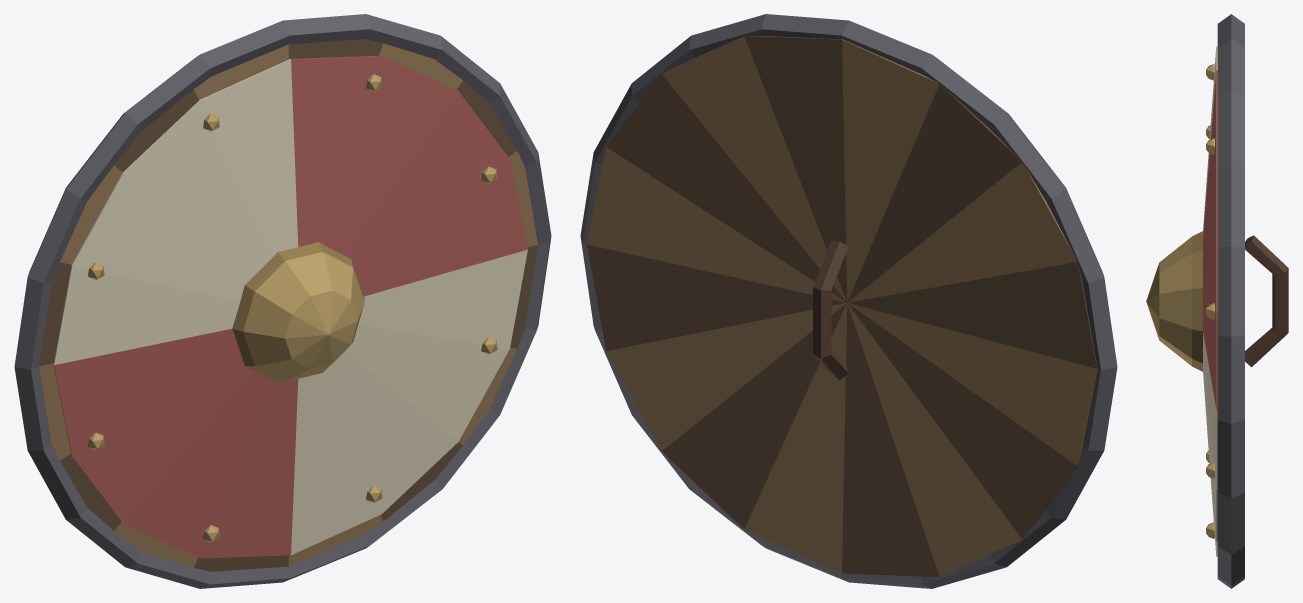
File: shield_round.glb
The picture shows the model from 3 angles, left to right: view 1: azimuth 30°, elevation 25°; view 2: azimuth 150°, elevation 25°; view 3: azimuth 270°, elevation 25°; orthographic projection. The views are drawn at different scales.
Parts seen in each view (by area): view 1: shield_round; view 2: shield_round; view 3: shield_round.
Part boxes in pixels (bbox=[...]): shield_round: bbox=[14, 14, 551, 588]; shield_round: bbox=[580, 14, 1117, 588]; shield_round: bbox=[1146, 14, 1288, 588].
Bounding box in the file's own units: 0.884 × 0.884 × 0.2176.
